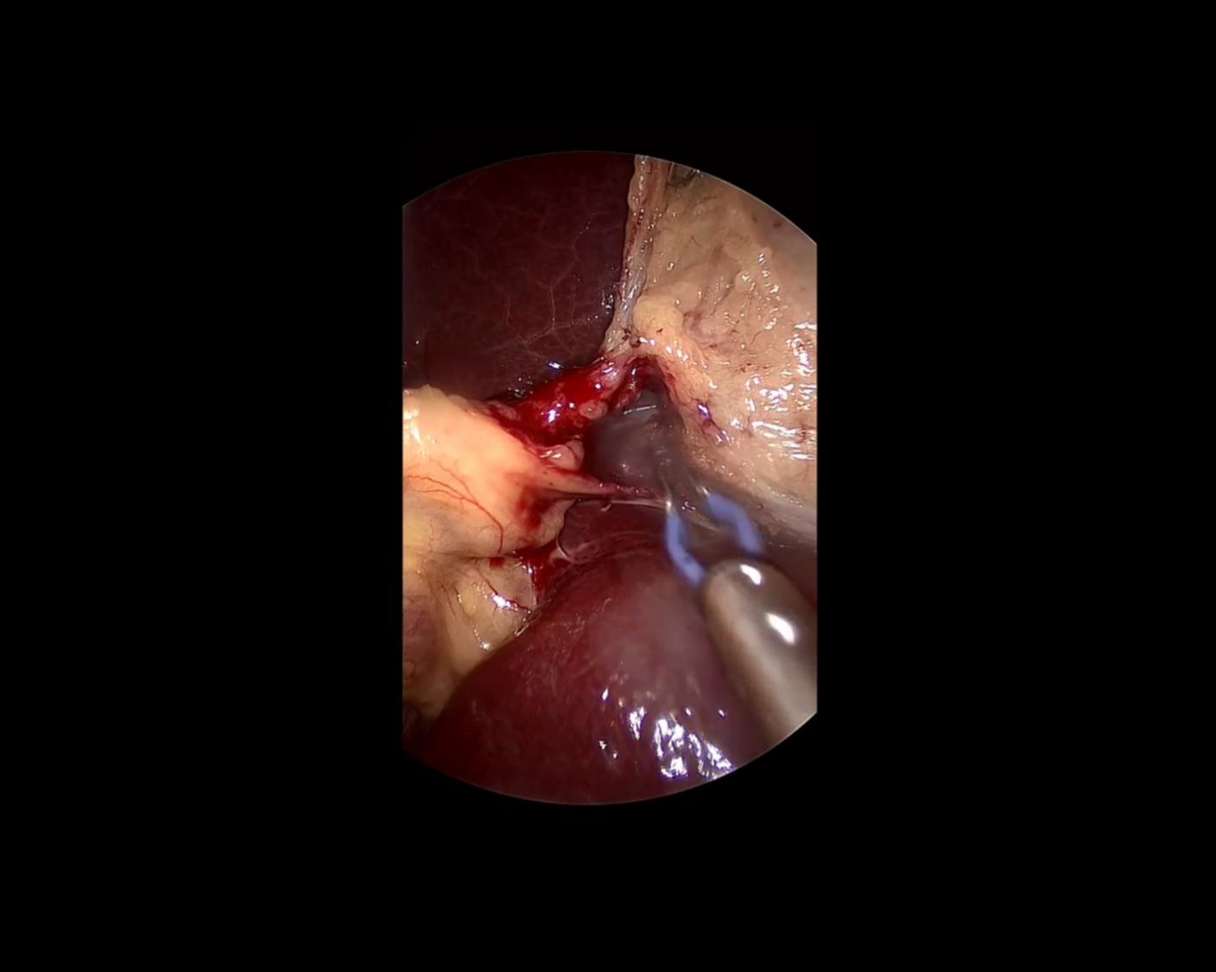Allis: (592, 450, 864, 747)
Gallbladder: (614, 154, 816, 553)
Liver: (349, 457, 765, 878), (399, 154, 632, 402)
